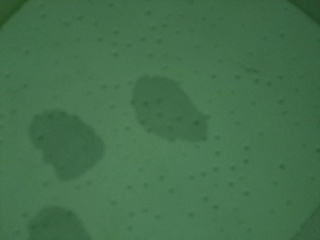Water_detected: (142, 86, 189, 135), (39, 124, 87, 164), (48, 210, 87, 240)
